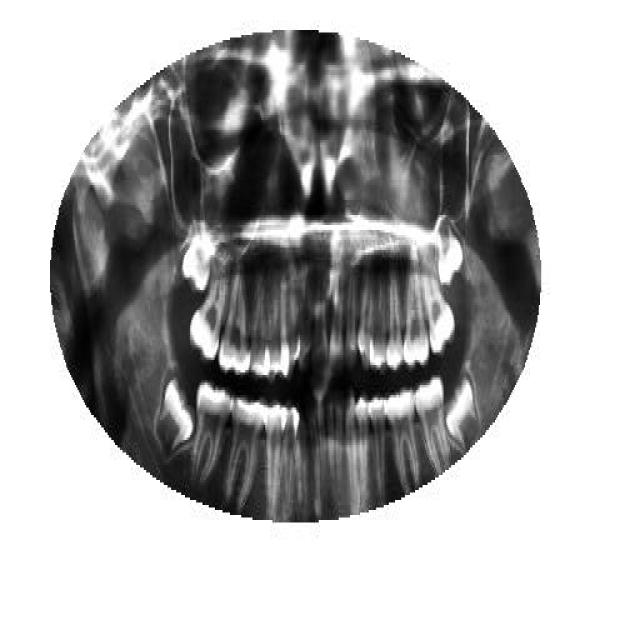Impacted Tooth: (152, 365, 198, 460), (442, 370, 478, 458), (180, 228, 214, 298), (435, 220, 464, 290)
